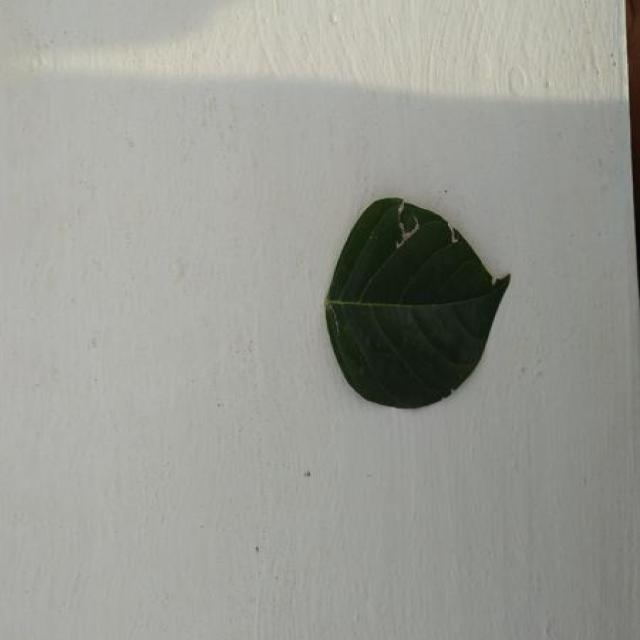honge: (325, 198, 510, 407)
